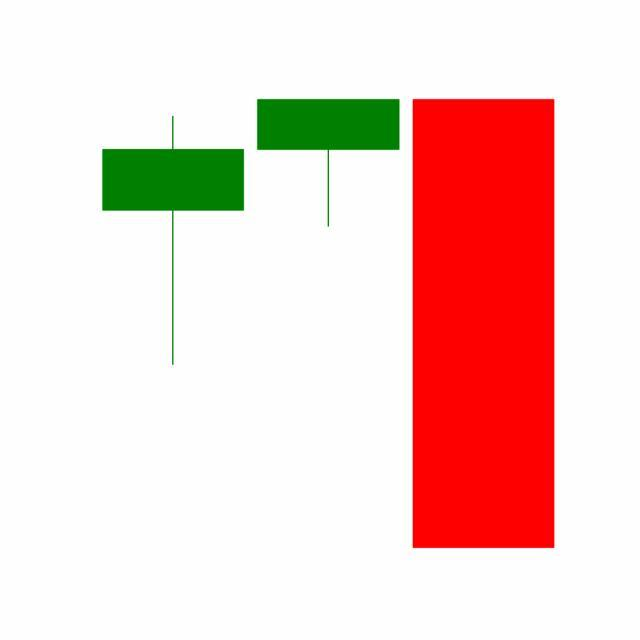Hanging Man: (250, 98, 407, 229)
